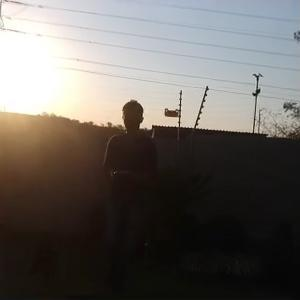follow: (100, 91, 165, 298)
